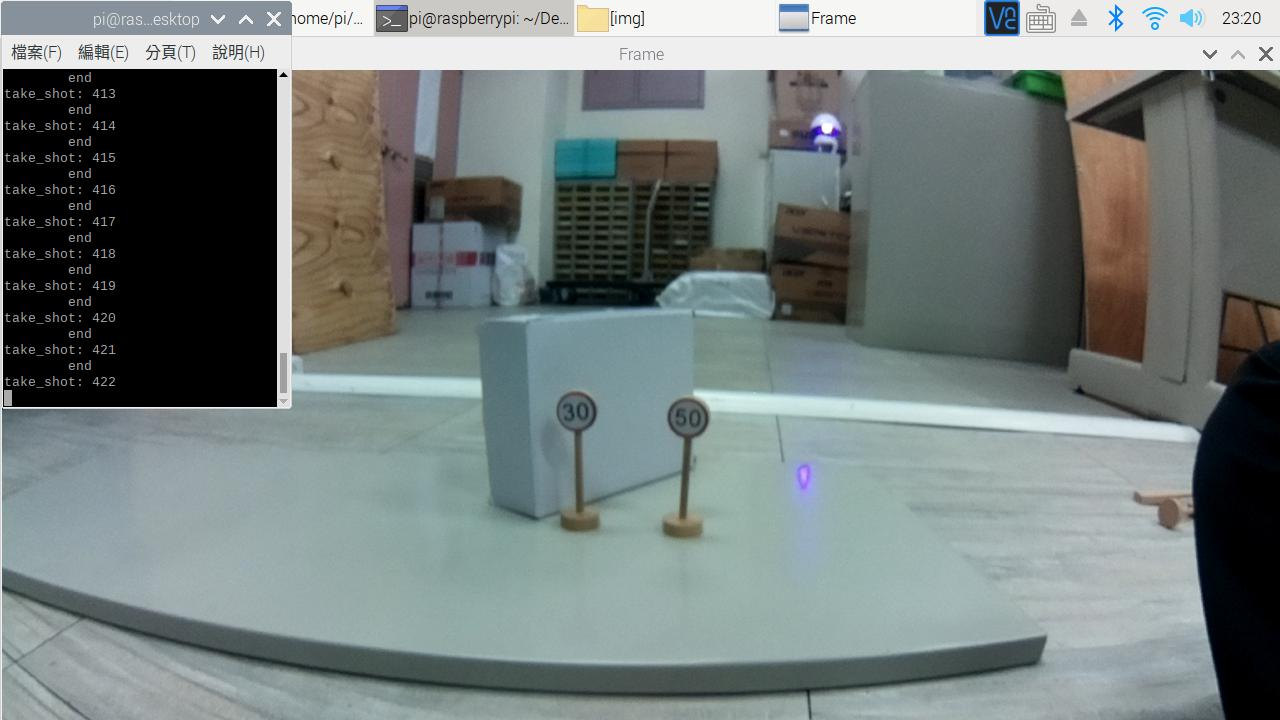Speed30: (548, 383, 609, 438)
Speed50: (663, 388, 721, 447)
